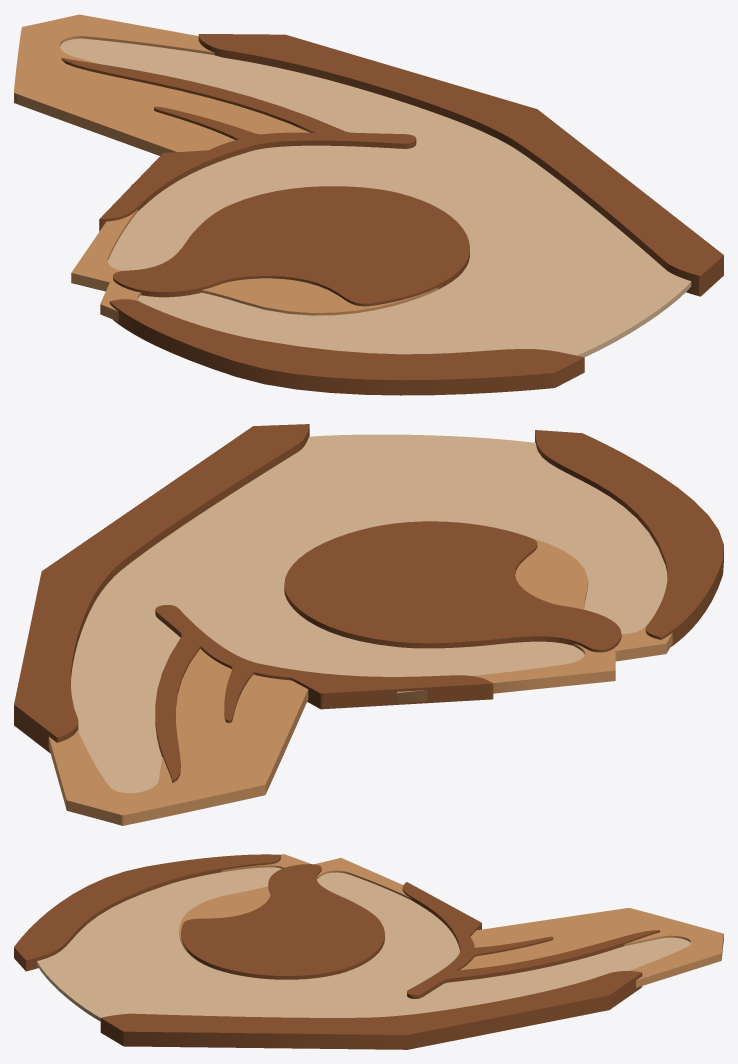
File: emoji_u1f44c_1f3fc.glb
The picture shows the model from 3 angles, top to bottom: view 1: azimuth 30°, elevation 25°; view 2: azimuth 150°, elevation 25°; view 3: azimuth 270°, elevation 25°; orthographic projection. The views are drawn at different scales.
Parts seen in each view (by area): view 1: emoji_u1f44c_1f3fc; view 2: emoji_u1f44c_1f3fc; view 3: emoji_u1f44c_1f3fc.
Boxes of the visible parts, x1=… form: emoji_u1f44c_1f3fc: x1=14, y1=14, x2=723, y2=395; emoji_u1f44c_1f3fc: x1=14, y1=424, x2=723, y2=825; emoji_u1f44c_1f3fc: x1=14, y1=854, x2=723, y2=1049.
Size of the model in its own units: 0.0214 by 0.0008 by 0.0348.
